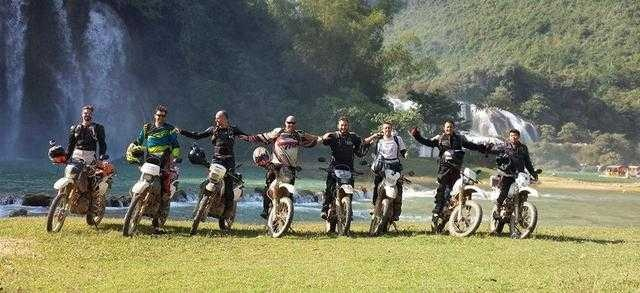motorbike: (46, 154, 111, 233), (188, 143, 243, 235), (122, 154, 182, 236), (253, 156, 302, 238), (316, 155, 363, 236), (433, 162, 483, 237), (489, 166, 541, 237), (369, 164, 415, 236)
